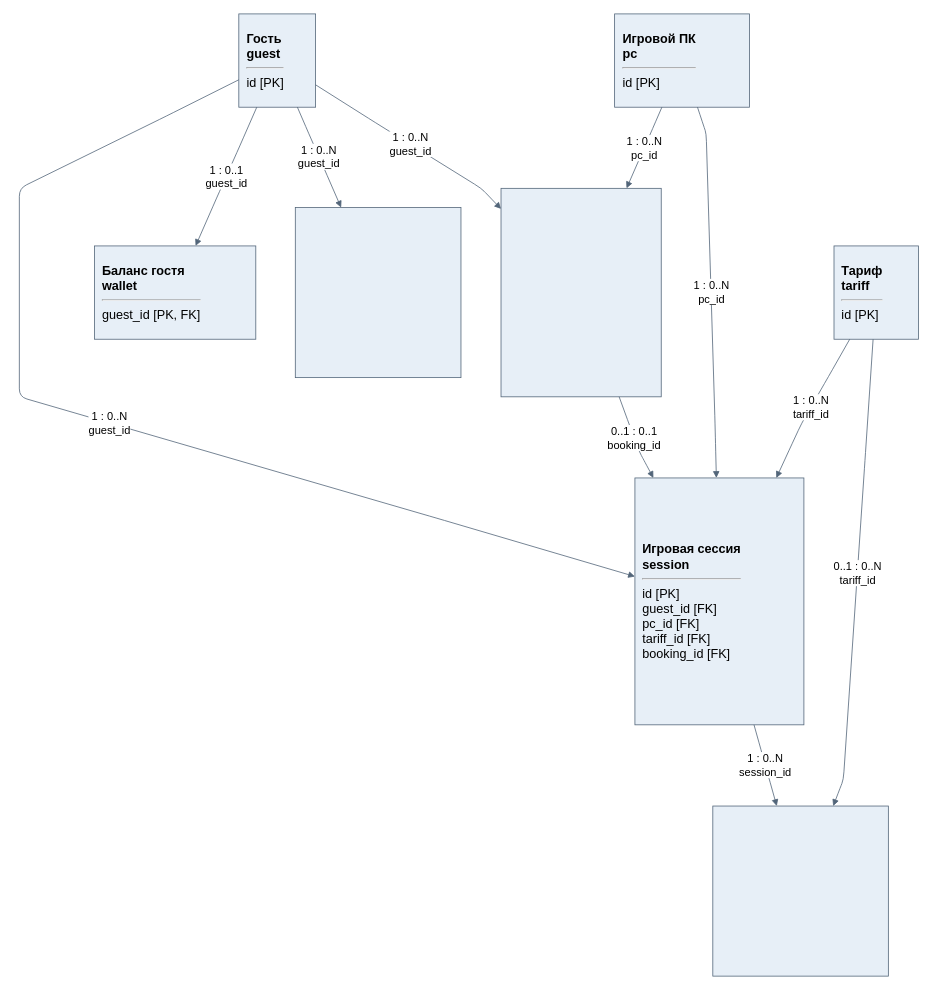
This 933x990 diagram has some shape labels left out. The shapes that lost their labels are listed below. From the top down, each one's centre as x and y in pixels, then its label:
At point 378,292: "Платёж payment id [PK] guest_id [FK] accepted_by [FK]".
At point 580,292: "Бронирование booking id [PK] guest_id [FK] pc_id [FK] created_by [FK]".
At point 800,890: "Событие сессии session_event id [PK] session_id [FK] tariff_id [FK]".
